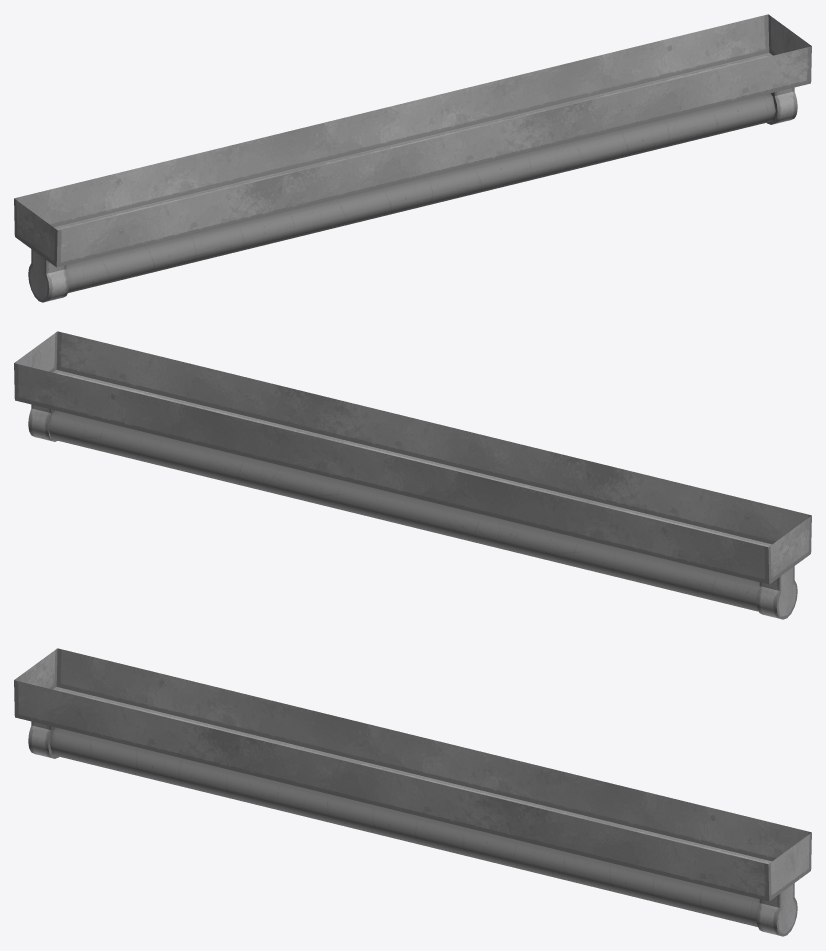
File: Light_Fitting_v1.fbx
3 views of the same model, one above another, from view 1: azimuth 30°, elevation 25°; view 2: azimuth 150°, elevation 25°; view 3: azimuth 330°, elevation 25° (orthographic).
Visible parts, largest first — view 1: Light_Fitting_v1; view 2: Light_Fitting_v1; view 3: Light_Fitting_v1.
Part boxes in pixels (x1,y1,x2,y2): Light_Fitting_v1: (14, 14, 811, 302); Light_Fitting_v1: (14, 331, 811, 619); Light_Fitting_v1: (14, 648, 811, 936).
Size of the model in its own units: 116 by 12.92 by 11.64.
